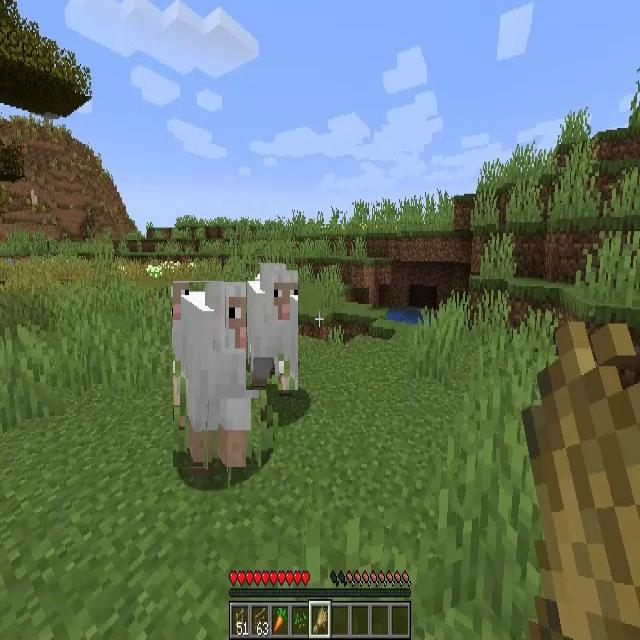sheep: (174, 282, 262, 467), (246, 264, 298, 390)
